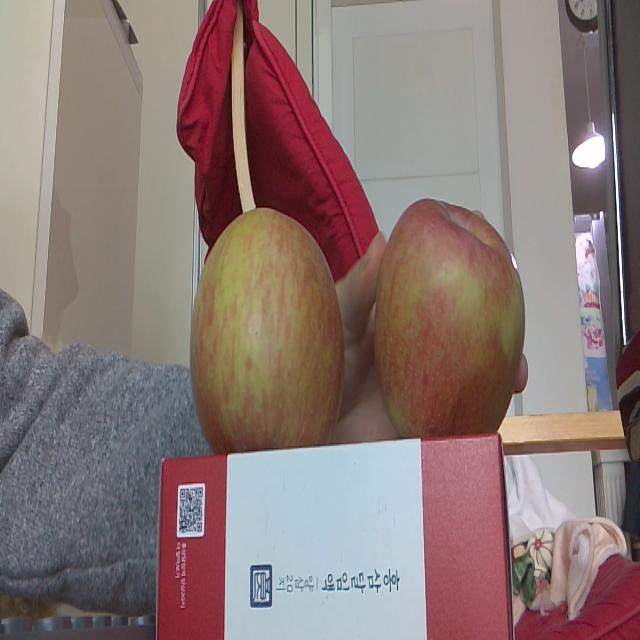apple: (190, 207, 344, 453), (373, 200, 525, 438)
